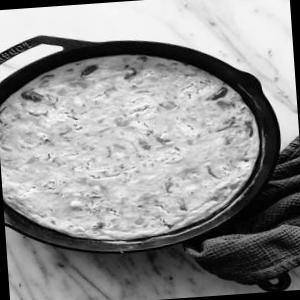omelet: (3, 40, 260, 246)
